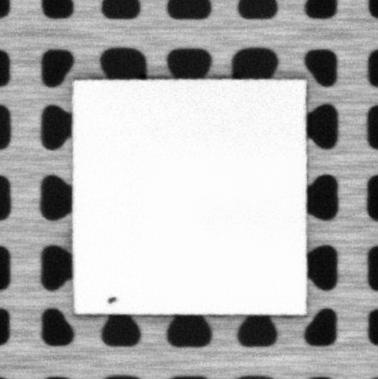DIE_INK: (104, 294, 120, 305)
